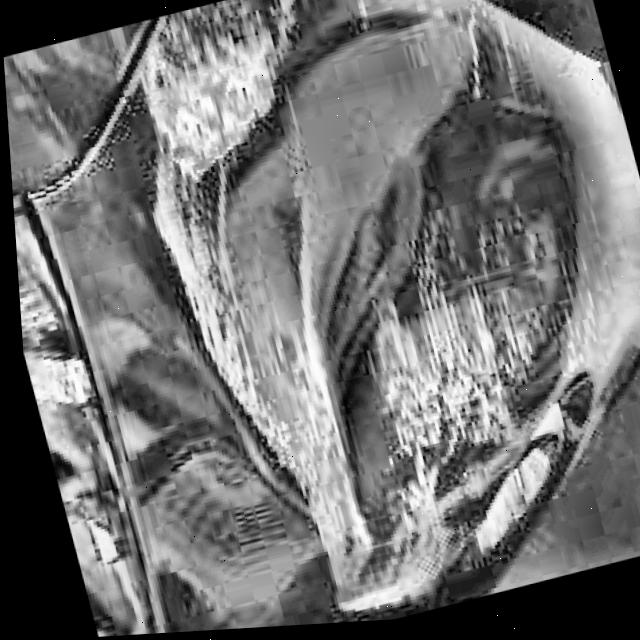bumper_dent: (255, 49, 640, 535)
bumper_scratch: (115, 0, 312, 263), (355, 276, 564, 515), (328, 520, 466, 620)
